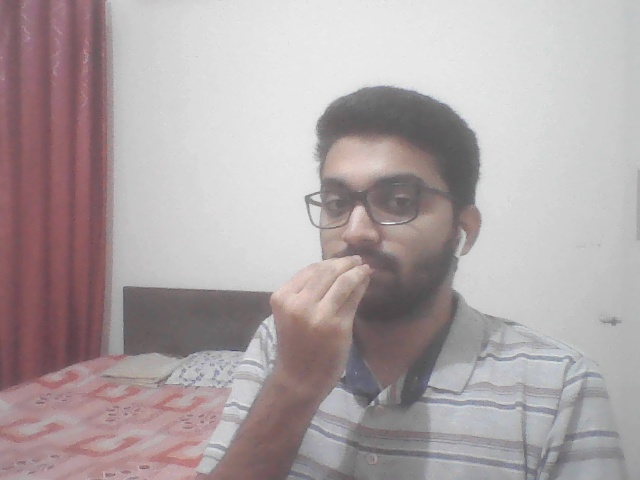eat: (246, 233, 375, 421)
